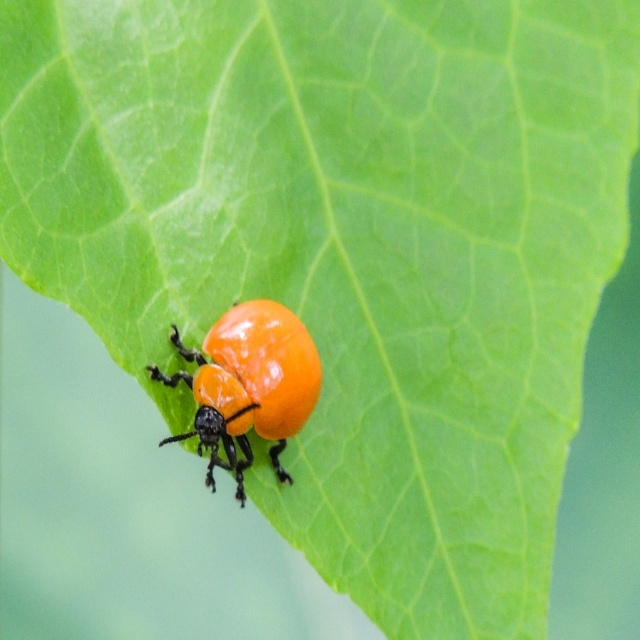Ladybug: (153, 296, 326, 500)
